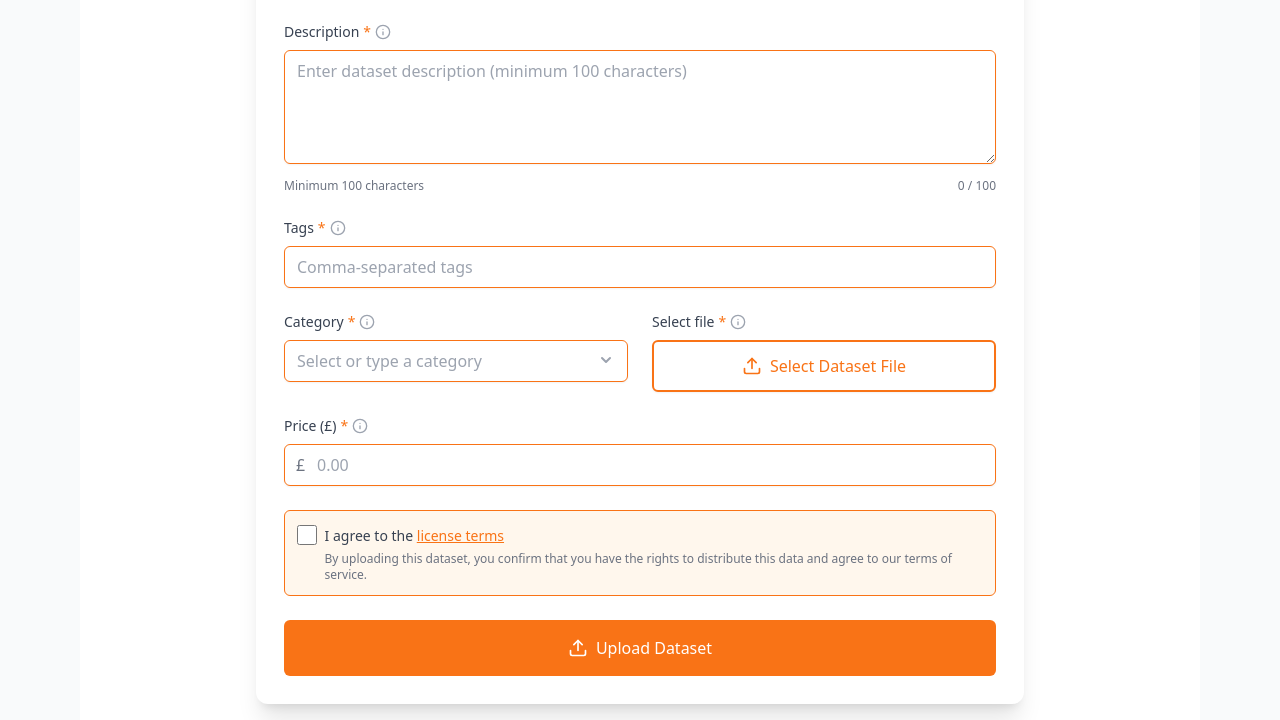
Test: DatasetForm Component › shows validation errors when form is submitted with empty fields
(page scrolled)
# Submit the form without filling required fields
Click the button "Upload Dataset" at point(640, 648), box [284,620,996,676]
(page scrolled)
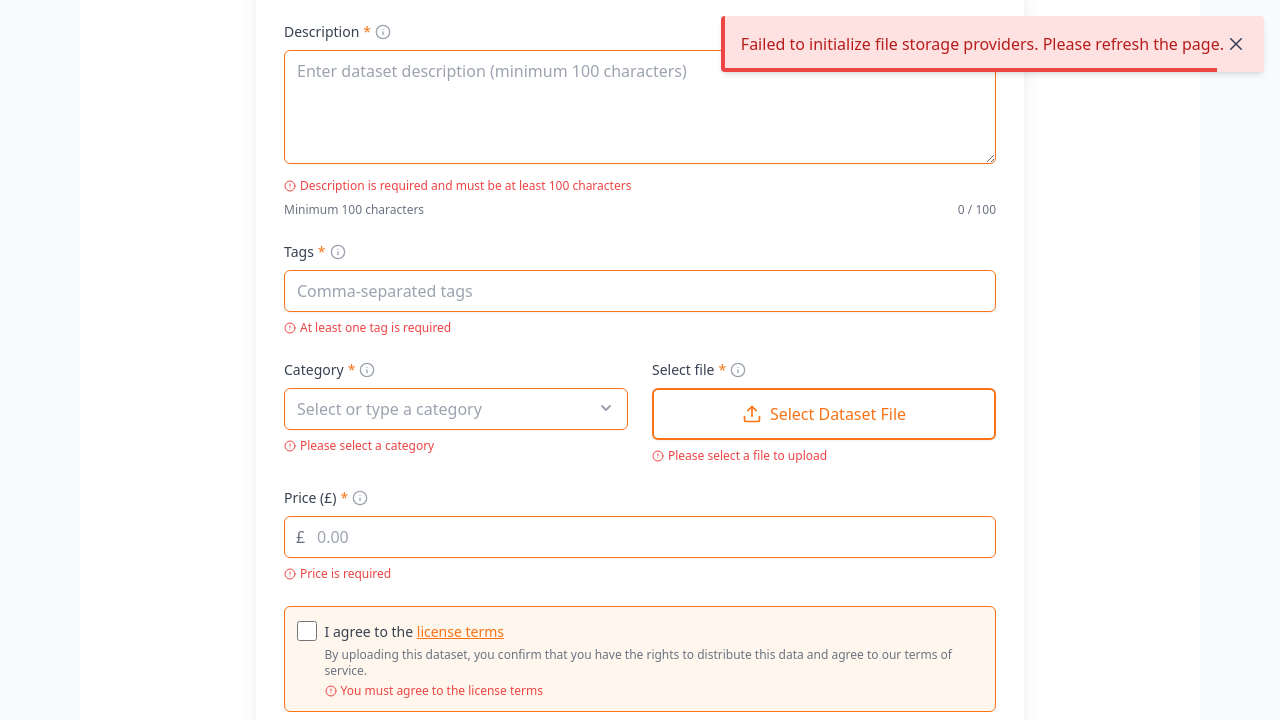
Result: the text "Description is required and must be at least 100 characters" is shown at [284,177,631,194]
Result: the text "Please select a category" is shown at [284,437,434,454]
Result: the text "At least one tag is required" is shown at [284,319,451,336]
